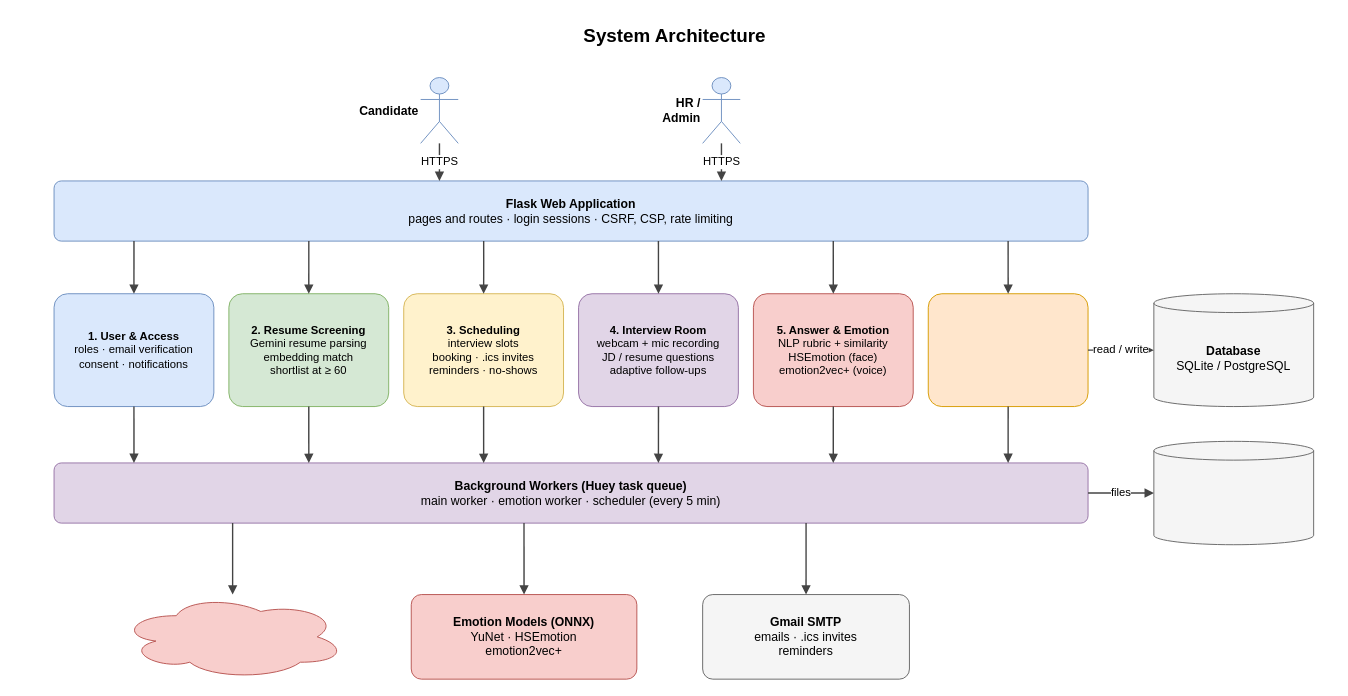
This 1348x696 diagram has some shape labels left out. Each missing label, with the centre of its shape:
6. Scorecard 0.75·NLP + 0.15·Emotion + 0.10·Context PDF · HR analytics: the point at 1007,350
Encrypted Files resumes · recordings (AES-256-GCM): the point at 1233,492
Gemini API parsing · embeddings · scoring transcription · follow-ups: the point at 232,636
